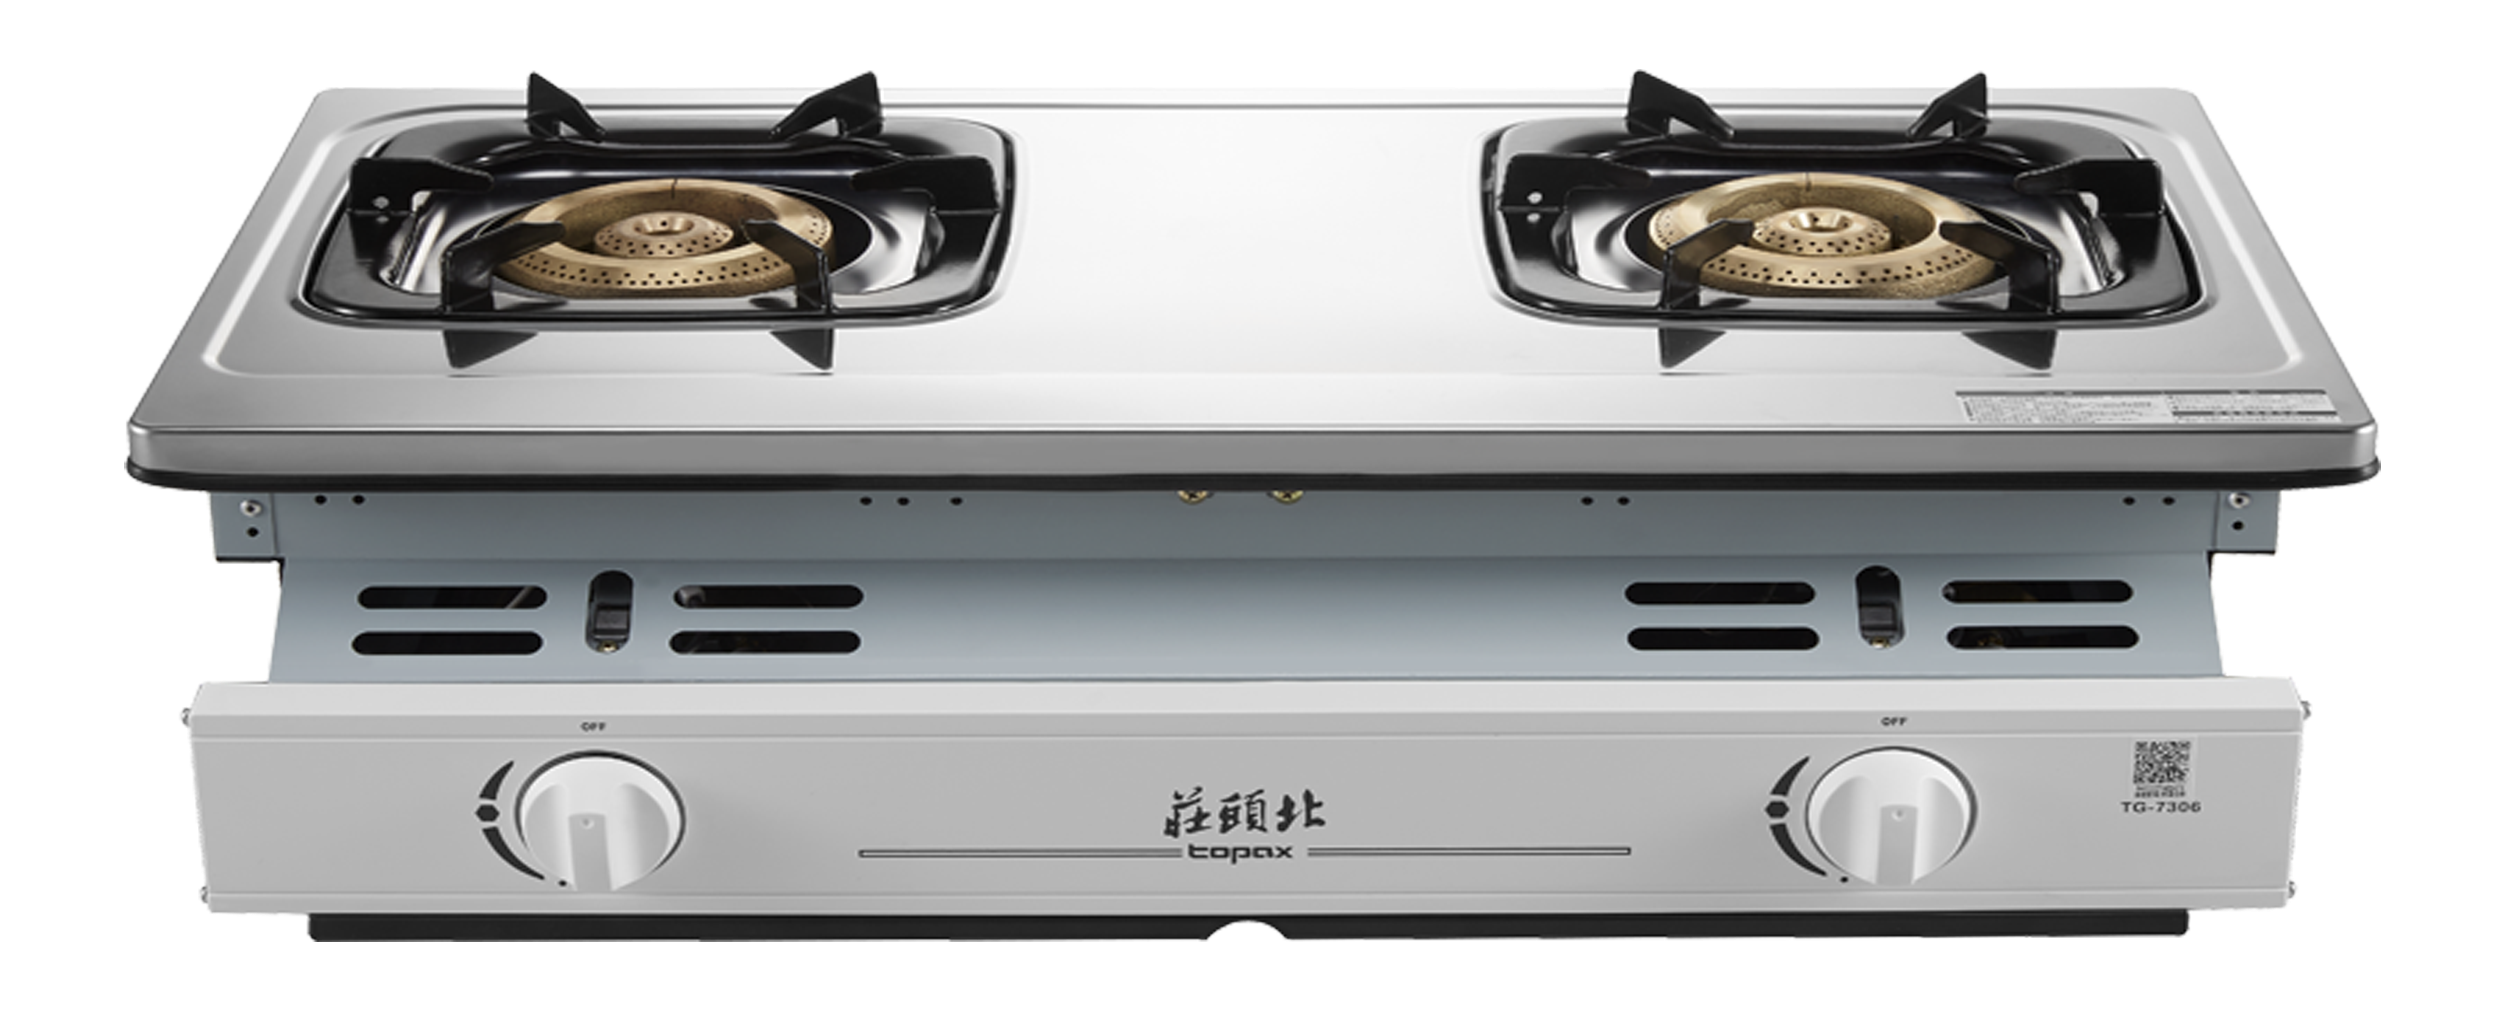gasoven: (128, 59, 2381, 967)
